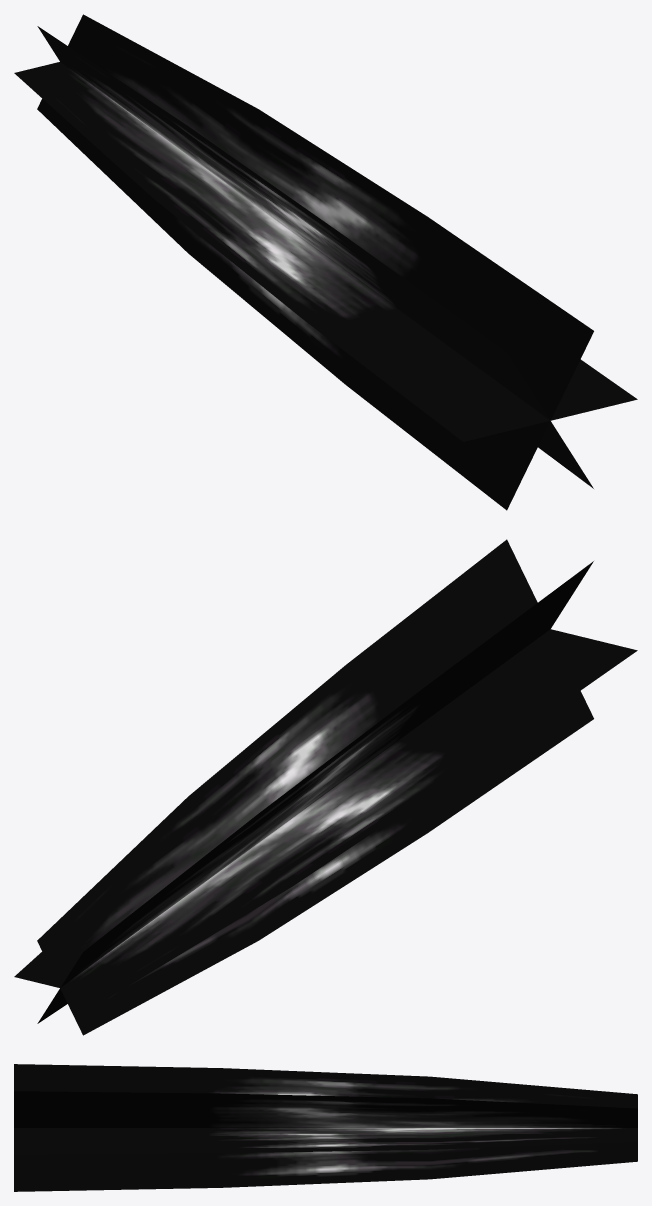
File: cross_plane_vertical_01.FBX
3 renders of one model, top to bottom at view 1: azimuth 30°, elevation 25°; view 2: azimuth 150°, elevation 25°; view 3: azimuth 270°, elevation 25°, orthographic. The views are drawn at different scales.
Visible parts, largest first — view 1: Plane03; view 2: Plane03; view 3: Plane03.
Part boxes in pixels (x1=…): Plane03: x1=14, y1=14, x2=637, y2=510; Plane03: x1=14, y1=539, x2=637, y2=1035; Plane03: x1=14, y1=1064, x2=637, y2=1191.
Bounding box in the file's own units: 3.19 × 2.77 × 15.54.
